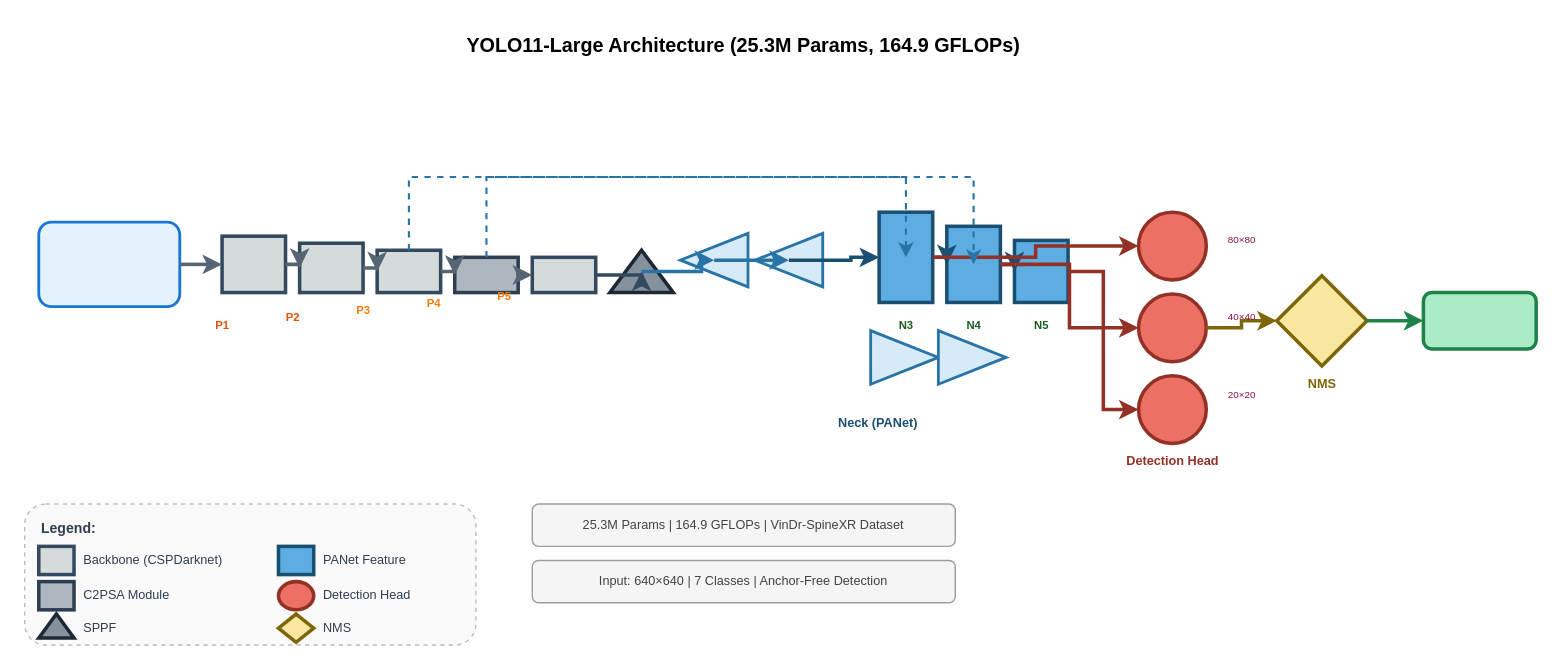
This 1562x670 diagram has some shape labels left out. Each missing label, with the centre of its shape:
"Detections" belongs at point 1479,320.
"Input 640×640×3" belongs at point 108,263.
